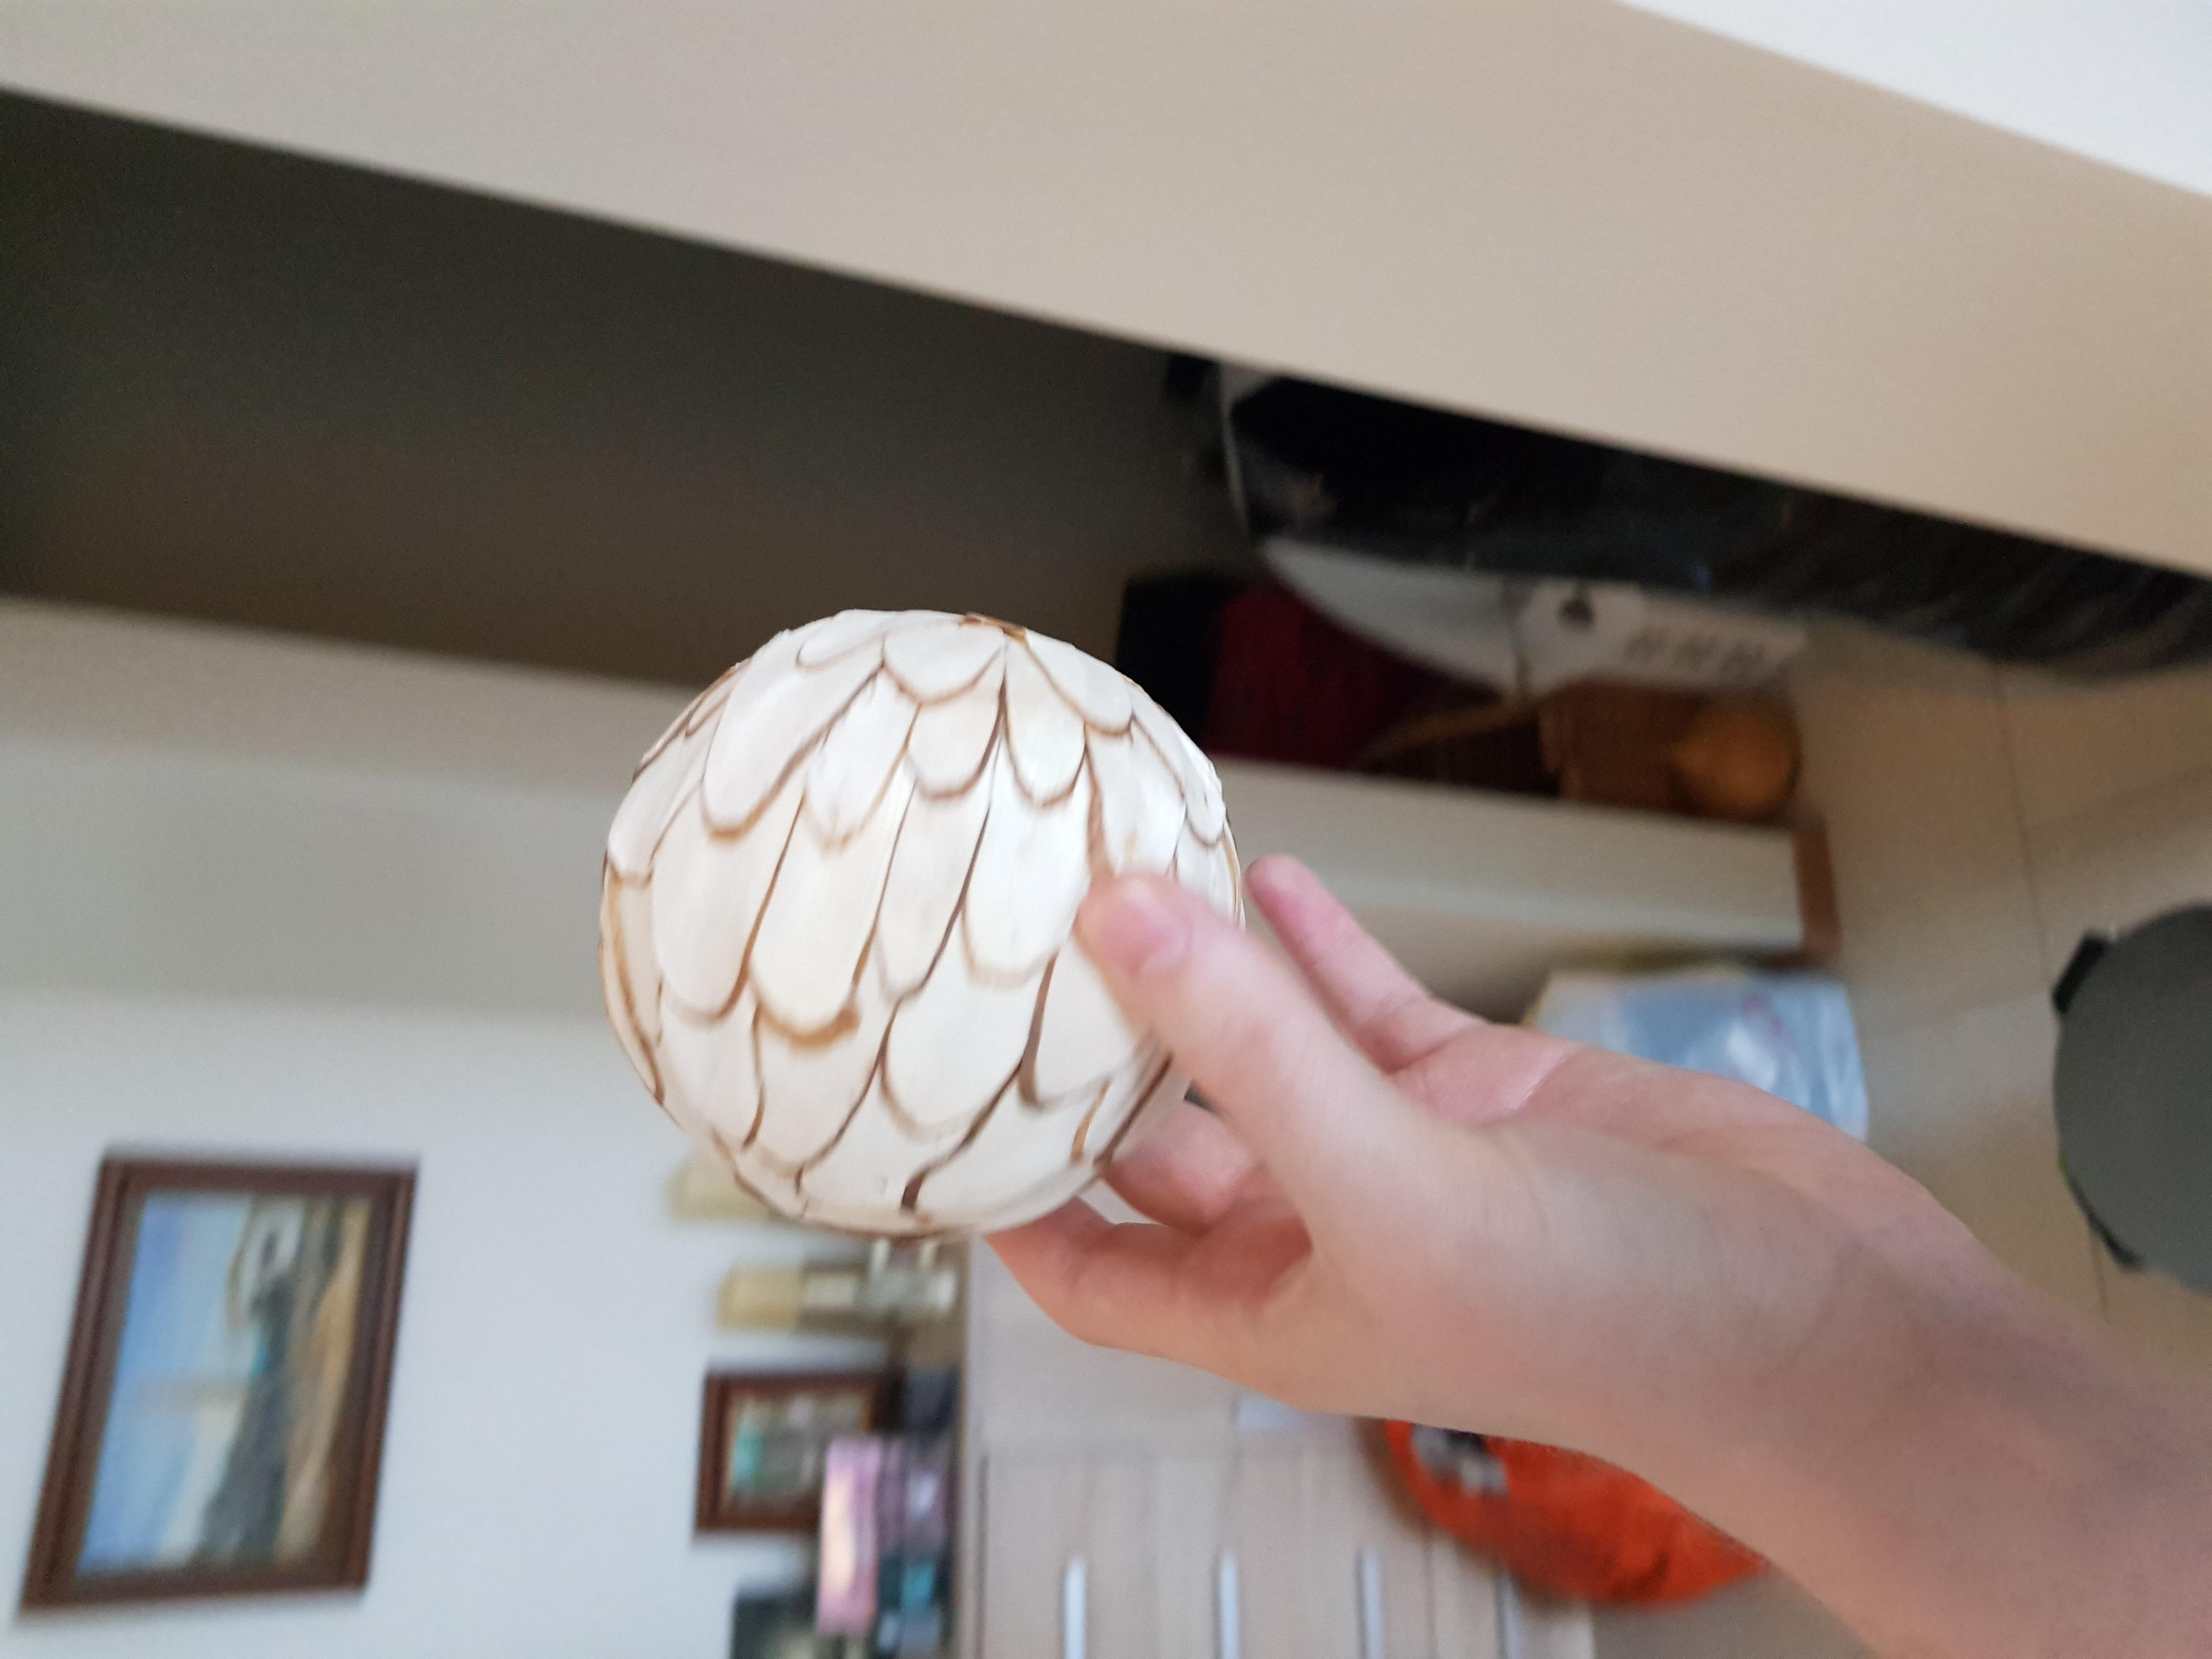Sphere: (599, 596, 1252, 1236)
